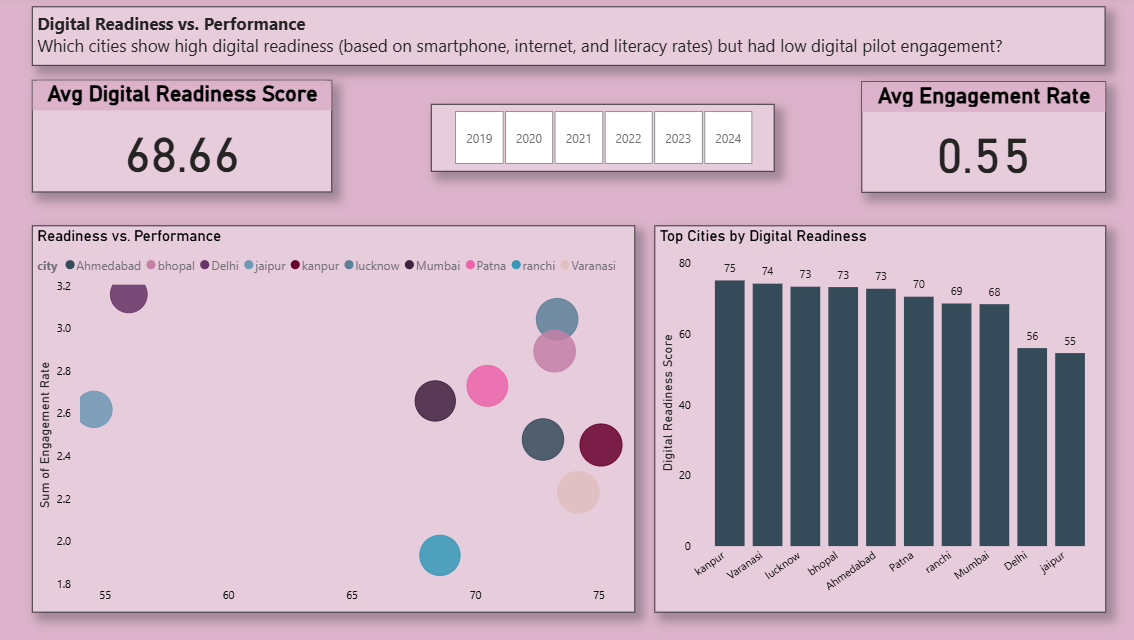

The dashboard page shown, as its layout file describes it:
{"tool":"powerbi","page":{"name":"Digital Readiness vs. Performance","canvas":[1280,720],"ordinal":5},"visuals":[{"type":"scatterChart","title":"Readiness vs. Performance","fields":{"X":["Key Measures.Digital Readiness Score"],"Y":["Sum(fact_digital_pilot.Engagement Rate)"],"Series":["dim_city.city"],"Size":["Key Measures.Digital Readiness Score"]},"box":[49.7,253.4,665.9,427.4],"z":0},{"type":"card","title":"Avg Digital Readiness Score","fields":{"Values":["Key Measures.Average Readiness"]},"box":[49.7,92.8,331.3,124.2],"z":1000},{"type":"card","title":"Avg Engagement Rate","fields":{"Values":["fact_digital_pilot.Average Engagement"]},"box":[965.7,94.4,270,122.6],"z":2000},{"type":"textbox","box":[50,11.7,1185,65],"z":5000},{"type":"clusteredColumnChart","title":"Top Cities by Digital Readiness","fields":{"Category":["dim_city.city"],"Y":["Key Measures.Digital Readiness Score"]},"box":[737.1,253.4,498.6,427.4],"z":6000},{"type":"slicer","fields":{"Values":["fact_city_readiness.Year"]},"box":[490.3,119.3,379.3,74.5],"z":6001}]}

Visuals, with their boxes in screenshot pixels (x1, y1, x2, y2), scaled from the page's 1280x720 canvas onto the 1134x640 screenshot:
"Readiness vs. Performance" scatterChart: 44, 225, 634, 605
"Avg Digital Readiness Score" card: 44, 82, 338, 193
"Avg Engagement Rate" card: 856, 84, 1095, 193
textbox: 44, 10, 1094, 68
"Top Cities by Digital Readiness" clusteredColumnChart: 653, 225, 1095, 605
slicer - fact_city_readiness.Year: 434, 106, 770, 172
